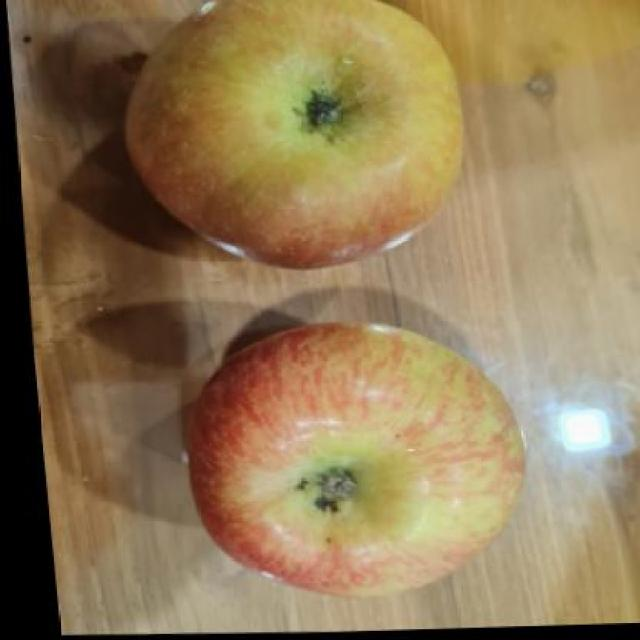Fresh Apple: (120, 0, 470, 263), (205, 325, 511, 595)
